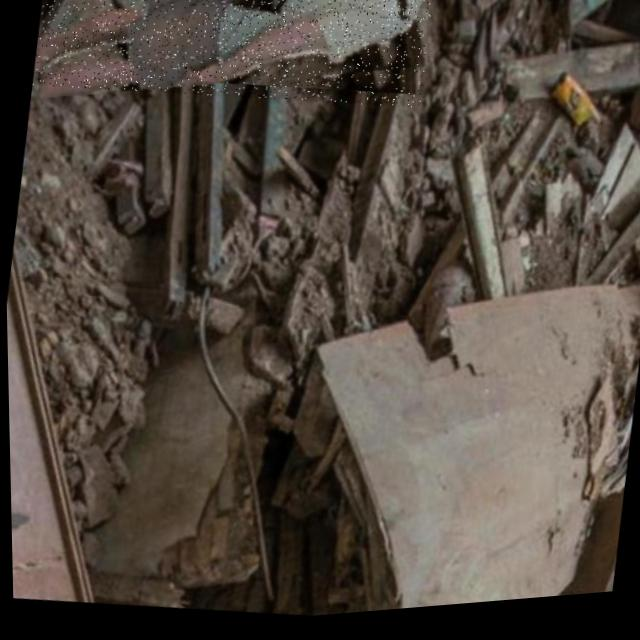Person in Rubble: (29, 0, 435, 139)
